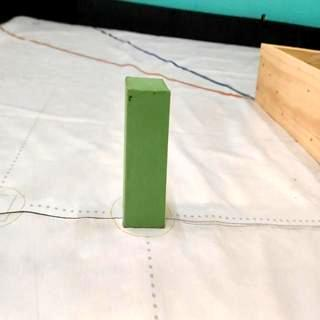greenbox: (125, 76, 172, 230)
